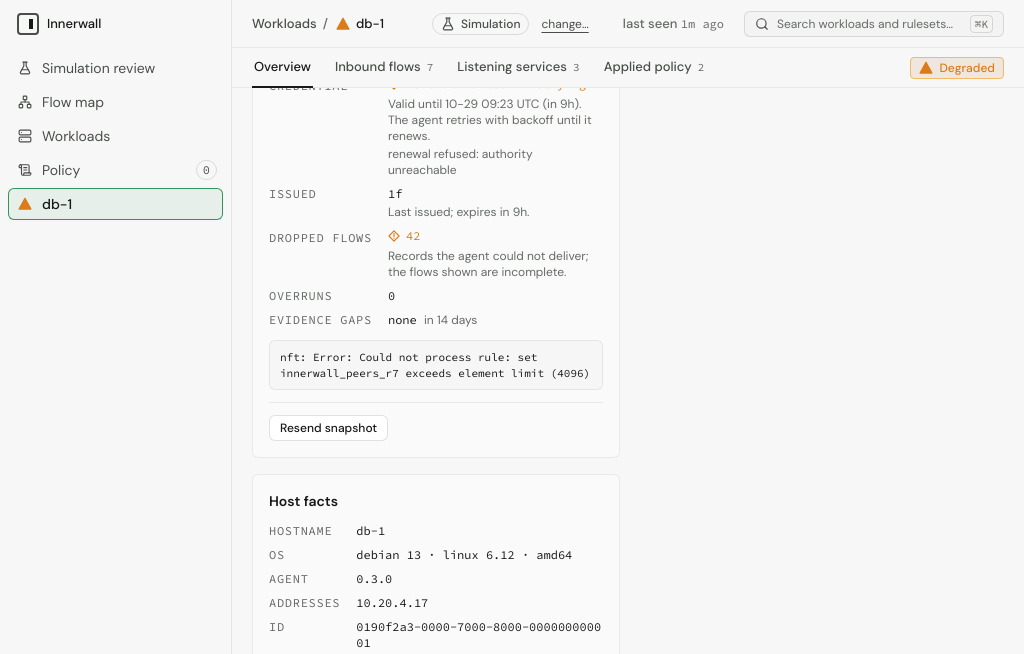
Test: resend snapshot › says when an offline agent was never heard from
The image size is (1024, 654).
(page scrolled)
Click the button "Resend snapshot" at [329, 428], box [269, 415, 388, 441]
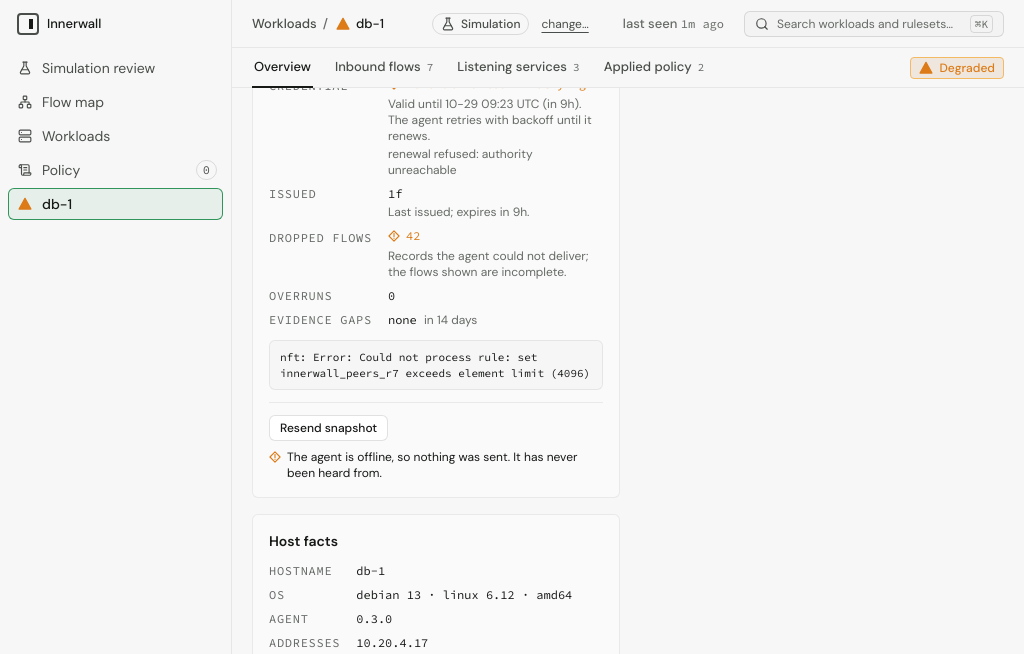
Result: the message shows "It has never been heard from." at [287, 449, 577, 481]
